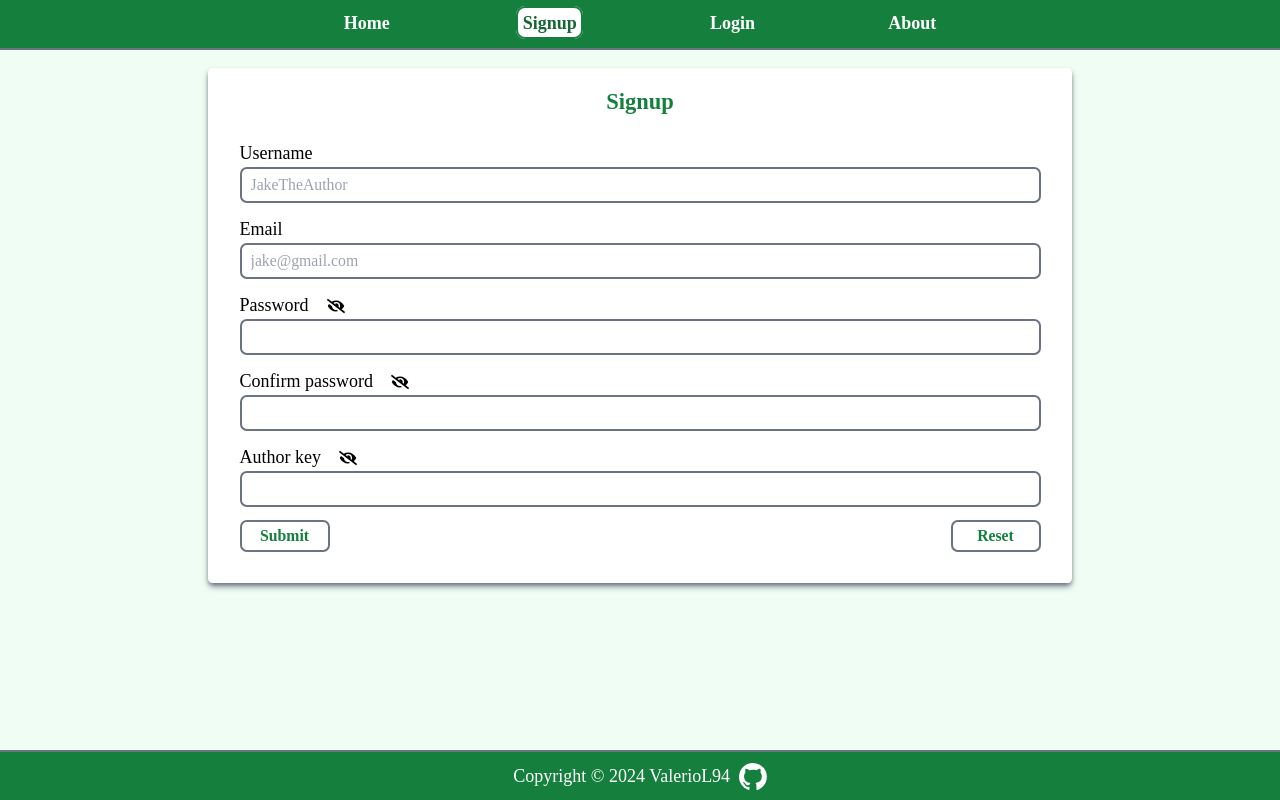
navbar component tests › no auth rendering/navigating › login link rendering/navigating
Click the link "Login". click: (732, 22)
box: [704, 6, 762, 38]
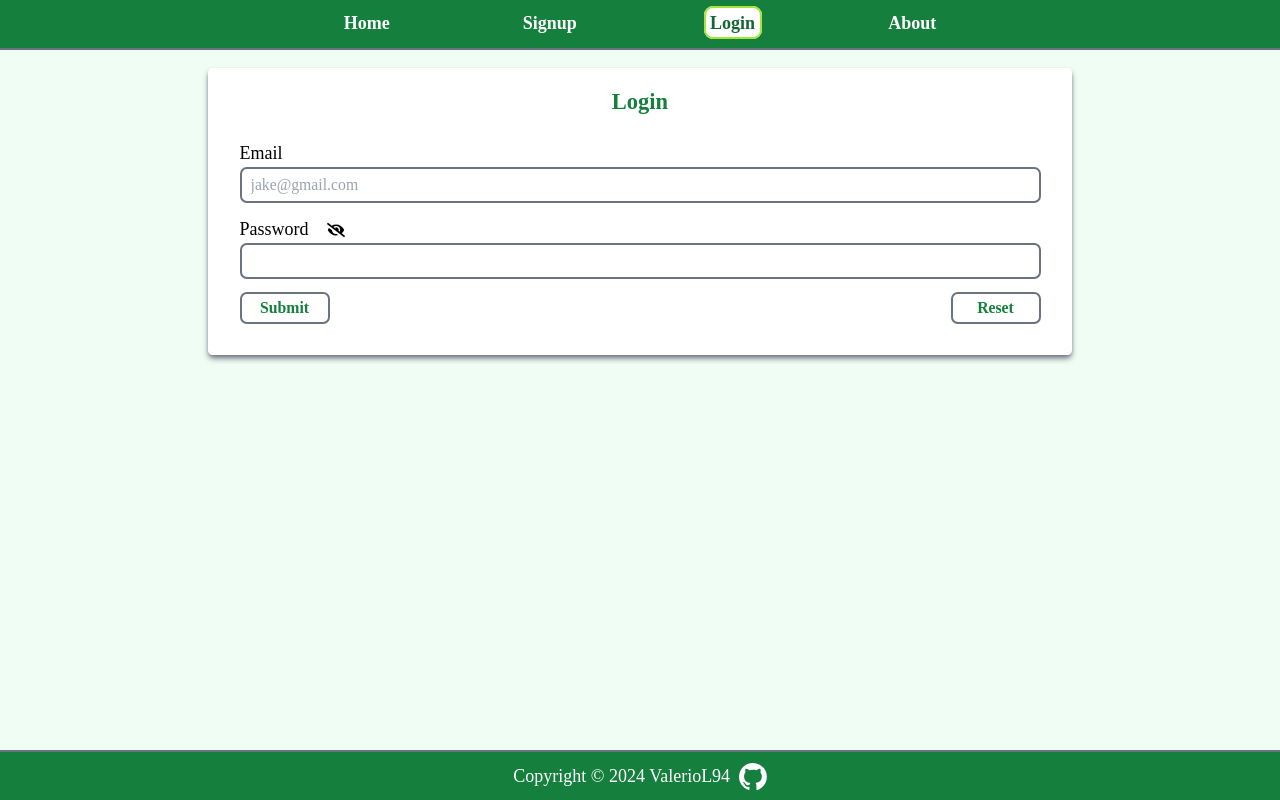
Check: the heading "Login" is shown, box [612, 89, 668, 114]
